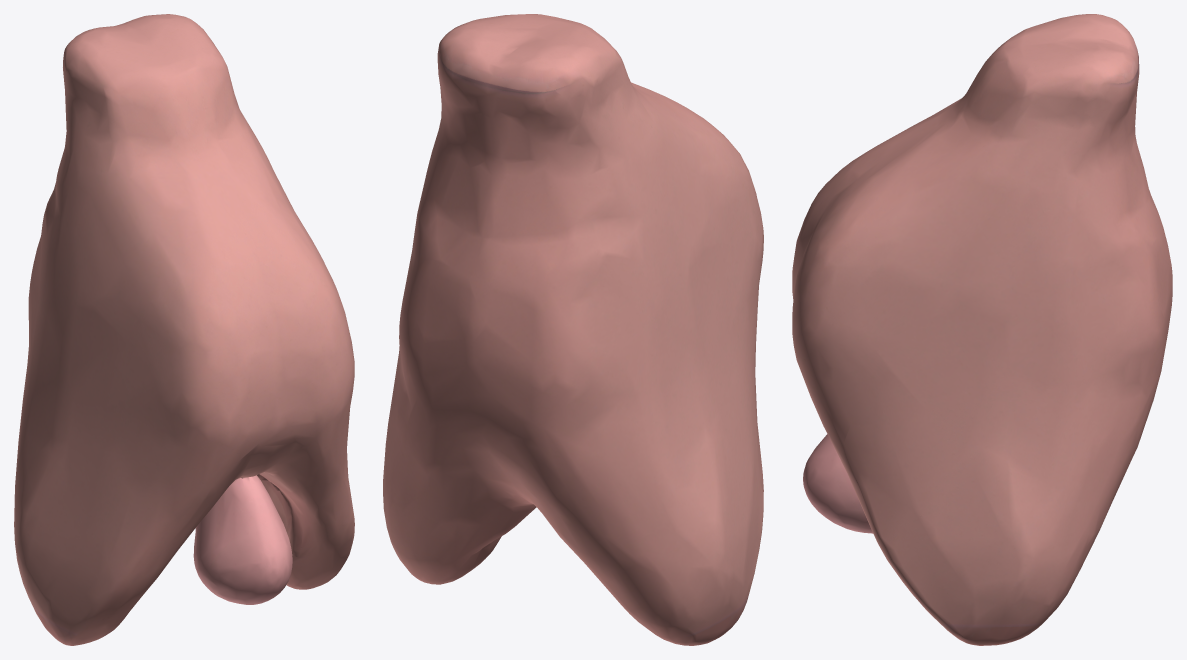
The model's file is Part_Uvula.glb.
3 renders of one model, left to right at view 1: azimuth 30°, elevation 25°; view 2: azimuth 150°, elevation 25°; view 3: azimuth 270°, elevation 25°, orthographic. The views are drawn at different scales.
Bounding box in the file's own units: 1.09 × 1.9 × 1.19.
1 material, 1 textured.
